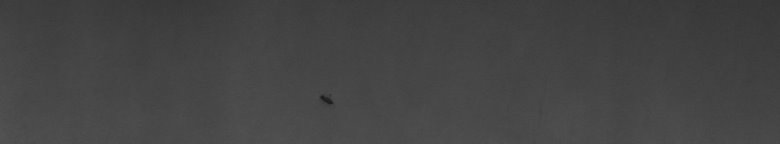fi: (316, 88, 336, 112)
